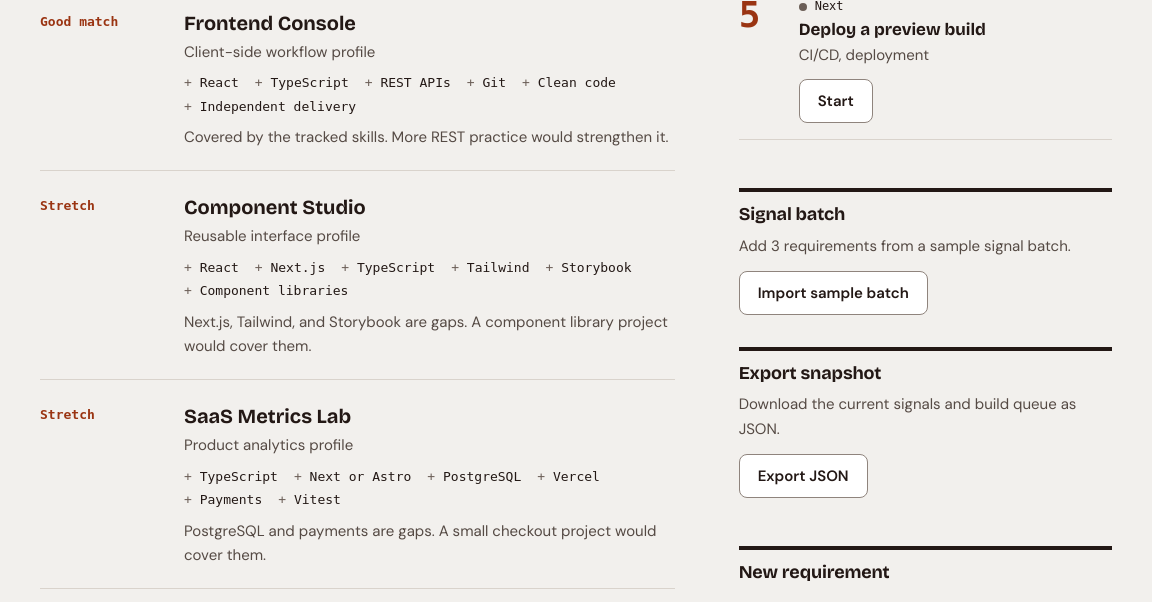
Scenario: SignalDesk › imports a sample signal batch into local planning data
(page scrolled)
Click the button "Import sample batch".
click(833, 293)  # box x1=739 y1=271 x2=928 y2=315
(page scrolled)
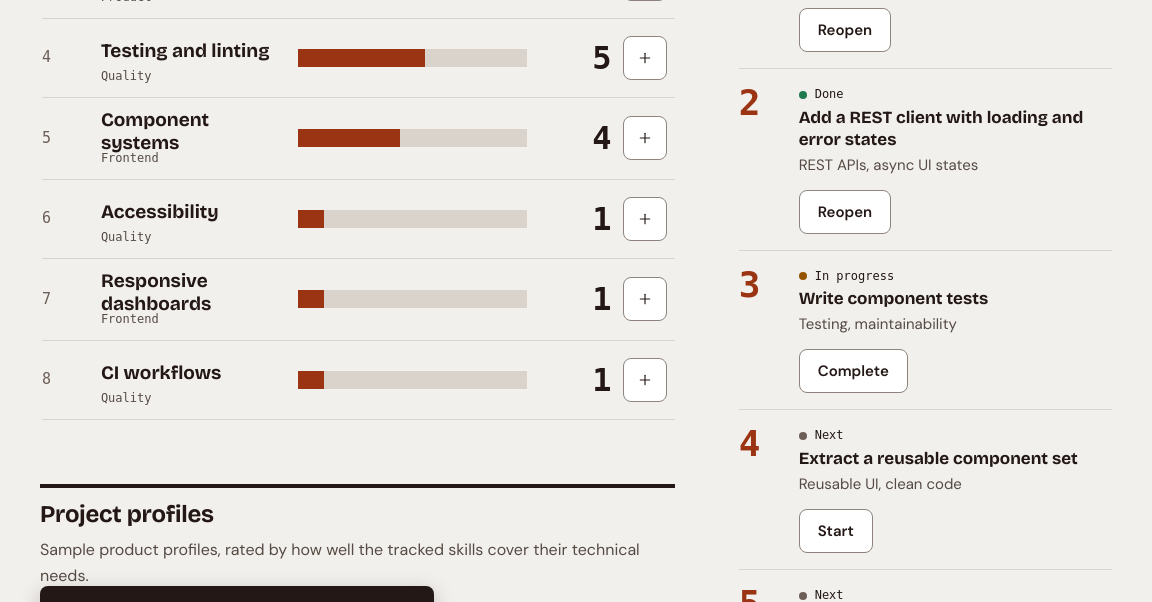
Expected: the button "Accessibility" is shown, x1=101 y1=190 x2=219 y2=234
Expected: the button "Responsive dashboards" is shown, x1=101 y1=269 x2=286 y2=316
